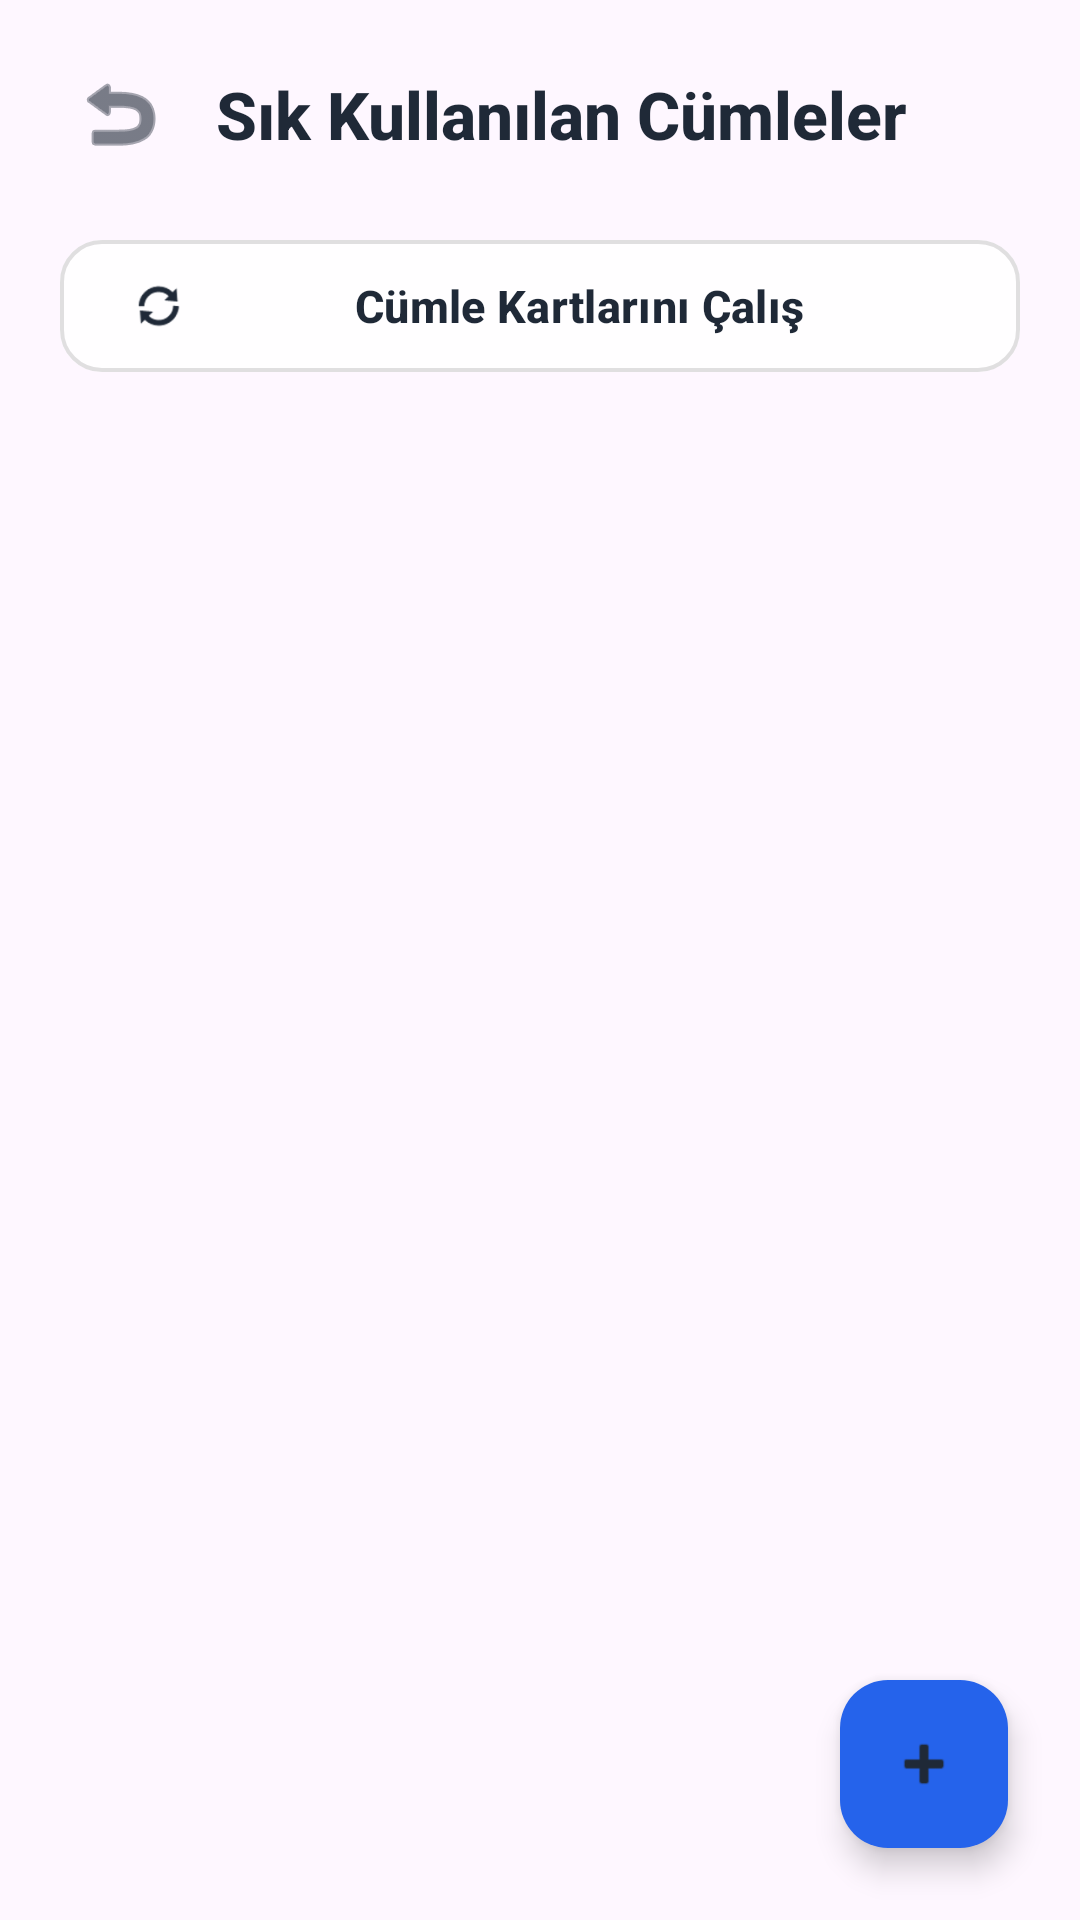

Icon click points for this 1080 × 1920 phone screenshot, format (x=x, y=y):
Cümle Ekle: (x=924, y=1764)
Geri: (x=121, y=114)
